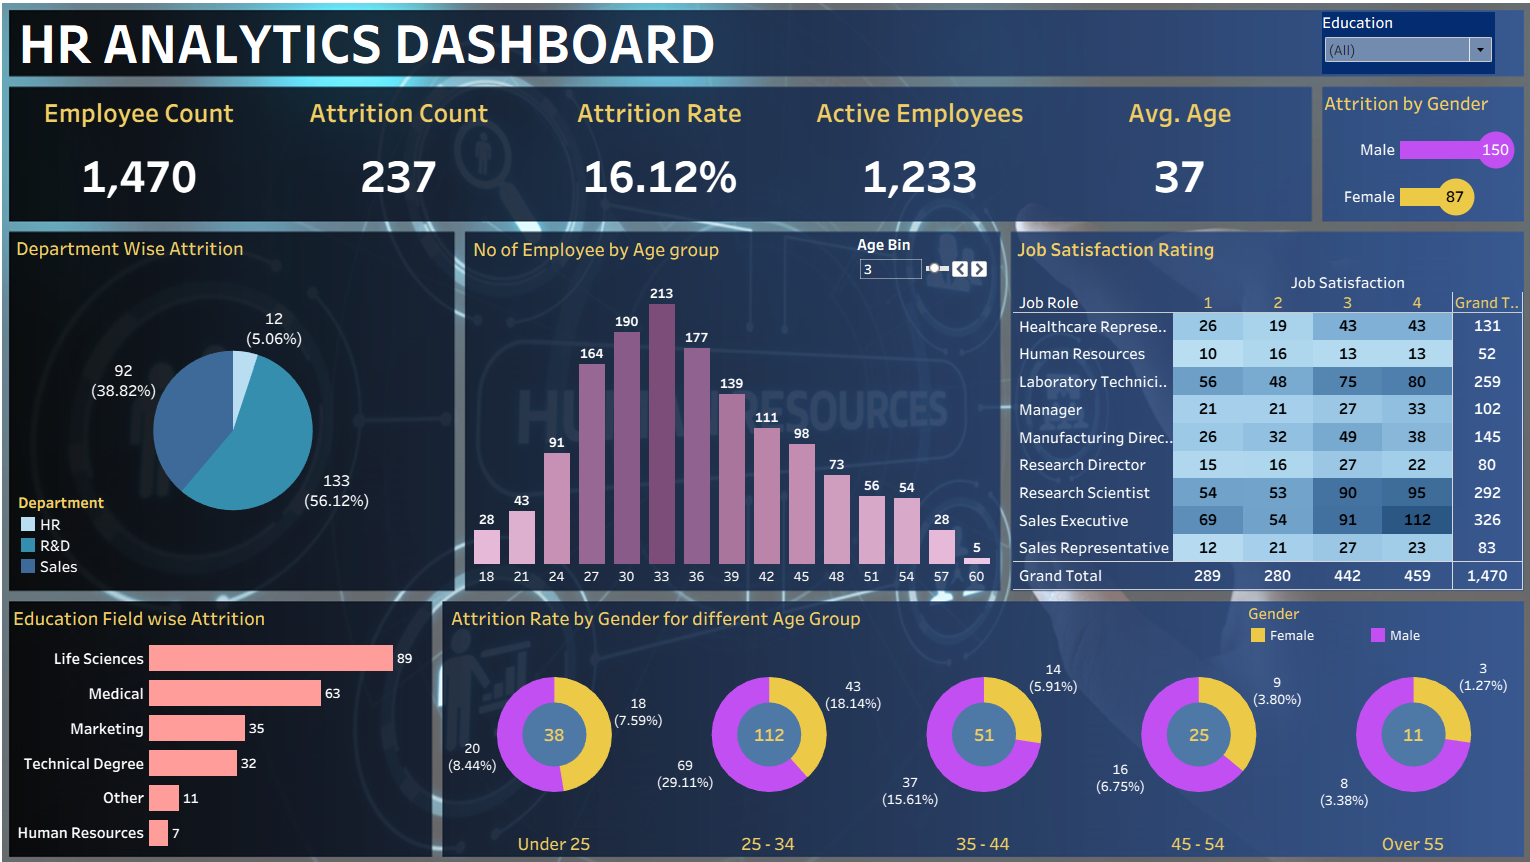

Layout of this report page (visuals, bound fields, positions):
{"tool":"tableau","page":{"name":"HR Analytics Dashboard","canvas":[1600,900],"ordinal":0},"visuals":[{"type":"image","param":"Image/HR background.png","box":[16,16,1568,868]},{"type":"text","box":[49,28,972,60]},{"type":"filter","title":"KPI","param":"[federated.1rq1uvm1dk1tgr1e62x8o0m9eyi2].[none:Education:nk]","box":[1356,29,173,62]},{"type":"worksheet","title":"Attrition by Gender","mark":"Automatic","rows":["Gender"],"cols":["Calculation_1116300113993728","Calculation_1116300113993728"],"box":[1354,103,200,134]},{"type":"worksheet","title":"KPI","mark":"Automatic","box":[43,106,1301,131]},{"type":"worksheet","title":"Department Wise Attrition","mark":"Pie","box":[46,248,442,359]},{"type":"worksheet","title":"No of Employee by Age group","mark":"Automatic","rows":["Employee Count"],"cols":["Age (bin)"],"box":[503,249,525,354]},{"type":"worksheet","title":"Job Satisfaction Rating","mark":"Square","rows":["Job Role"],"cols":["Job Satisfaction"],"box":[1047,249,510,358]},{"type":"parameter","param":"[Parameters].[Parameter 0686116297515008]","box":[891,251,133,46]},{"type":"legend","title":"Department Wise Attrition","param":"[federated.1rq1uvm1dk1tgr1e62x8o0m9eyi2].[none:Department:nk]","box":[52,509,140,85]},{"type":"worksheet","title":"Education Field wise Attrition","mark":"Automatic","rows":["Education Field"],"cols":["Calculation_1116300113993728"],"box":[43,618,422,249]},{"type":"worksheet","title":"Attrition Rate by Gender for different Age Group ","mark":"Pie","rows":["Calculation_0686116313636866","Calculation_0686116313636866"],"cols":["CF_age band"],"box":[481,618,1074,255]},{"type":"legend","title":"Attrition Rate by Gender for different Age Group ","param":"[federated.1rq1uvm1dk1tgr1e62x8o0m9eyi2].[none:Gender:nk]","box":[1282,620,261,55]}]}

Visuals, with their boxes in screenshot pixels (x1, y1, x2, y2), scaled from the page's 1600x900 canvas onto the 1530x862 screenshot:
image: bbox=(15, 15, 1515, 847)
text: bbox=(47, 27, 976, 84)
"KPI" filter: bbox=(1297, 28, 1462, 87)
"Attrition by Gender" worksheet: bbox=(1295, 99, 1486, 227)
"KPI" worksheet: bbox=(41, 102, 1285, 227)
"Department Wise Attrition" worksheet (Pie marks): bbox=(44, 238, 467, 581)
"No of Employee by Age group" worksheet: bbox=(481, 238, 983, 578)
"Job Satisfaction Rating" worksheet (Square marks): bbox=(1001, 238, 1489, 581)
parameter: bbox=(852, 240, 979, 284)
"Department Wise Attrition" legend: bbox=(50, 488, 184, 569)
"Education Field wise Attrition" worksheet: bbox=(41, 592, 445, 830)
"Attrition Rate by Gender for different Age Group " worksheet (Pie marks): bbox=(460, 592, 1487, 836)
"Attrition Rate by Gender for different Age Group " legend: bbox=(1226, 594, 1475, 646)
